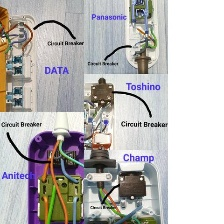three_eye_plug: (23, 114, 83, 224), (83, 150, 166, 223), (0, 9, 39, 112), (122, 0, 161, 71), (83, 77, 116, 151)
